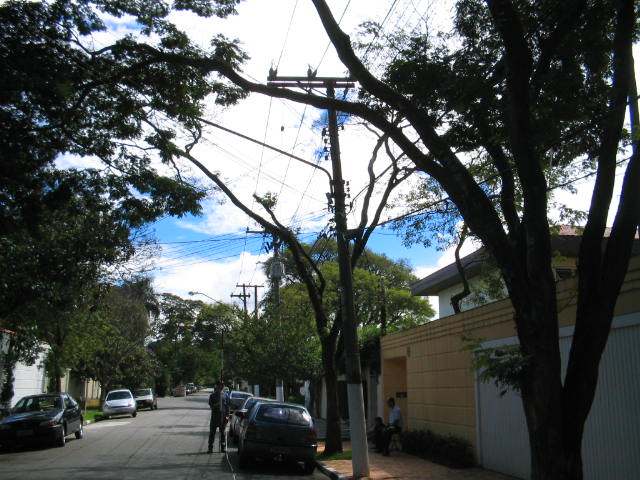stem: (509, 389, 615, 476), (315, 375, 348, 456)
stick: (216, 328, 227, 454)
tree: (348, 1, 636, 478), (162, 38, 448, 456)
